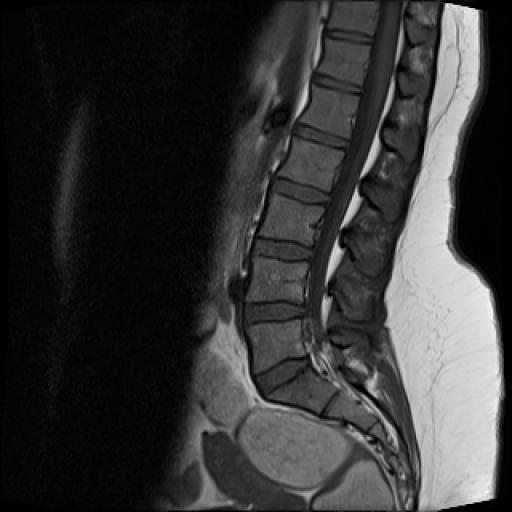L1: (300, 84, 359, 138)
L2: (279, 137, 343, 190)
L3: (260, 193, 324, 246)
L4: (246, 258, 308, 304)
L5: (247, 320, 306, 377)
S1: (266, 367, 337, 414)
